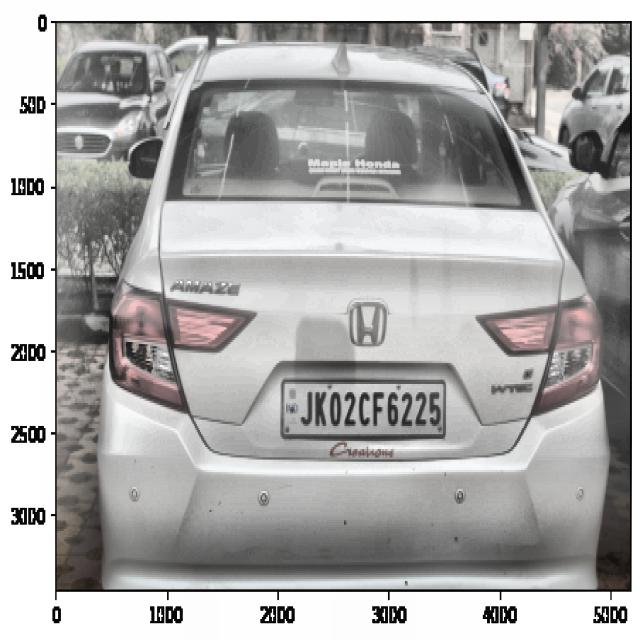license_plate: (296, 381, 446, 440)
